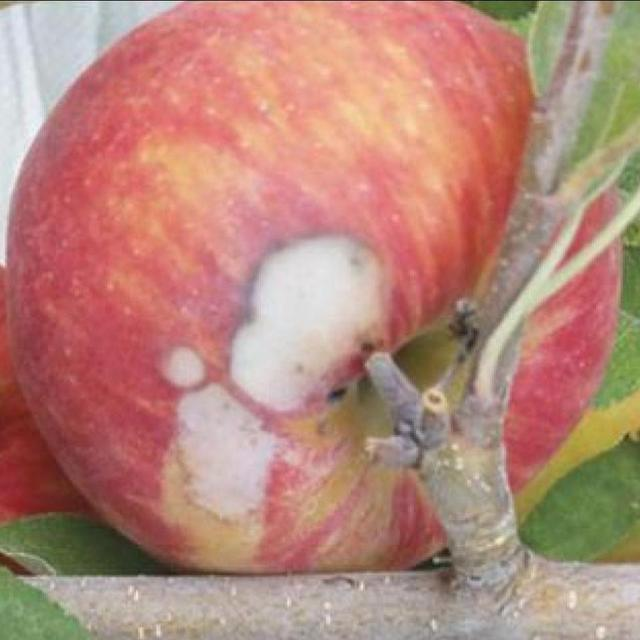Sunscald Fruit: (88, 139, 275, 344)
